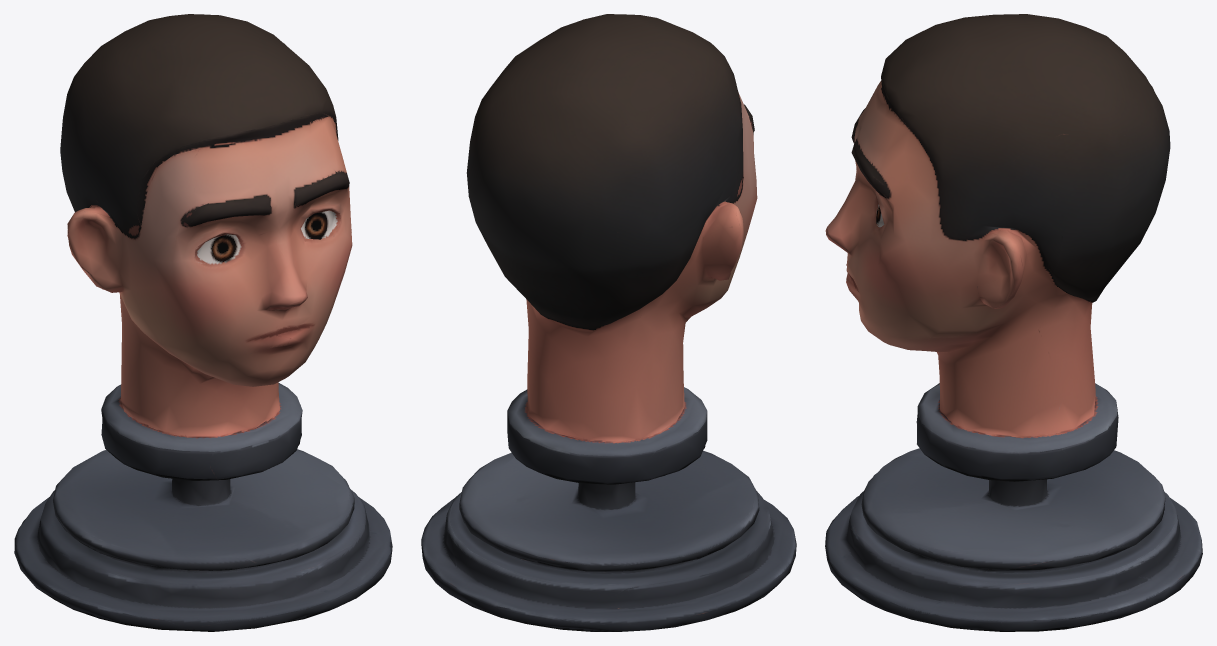
The model's file is holodeck_HeadModel.glb.
3 renders of one model, left to right at view 1: azimuth 30°, elevation 25°; view 2: azimuth 150°, elevation 25°; view 3: azimuth 270°, elevation 25°, orthographic.
Parts seen in each view (by area): view 1: world; view 2: world; view 3: world.
Boxes of the visible parts, <box> form: world: <box>14,14,392,631</box>; world: <box>421,14,796,631</box>; world: <box>825,14,1202,631</box>.
Size of the model in its own units: 0.6518 by 0.9999 by 0.6499.
Materials: 1 (1 with a texture image).
